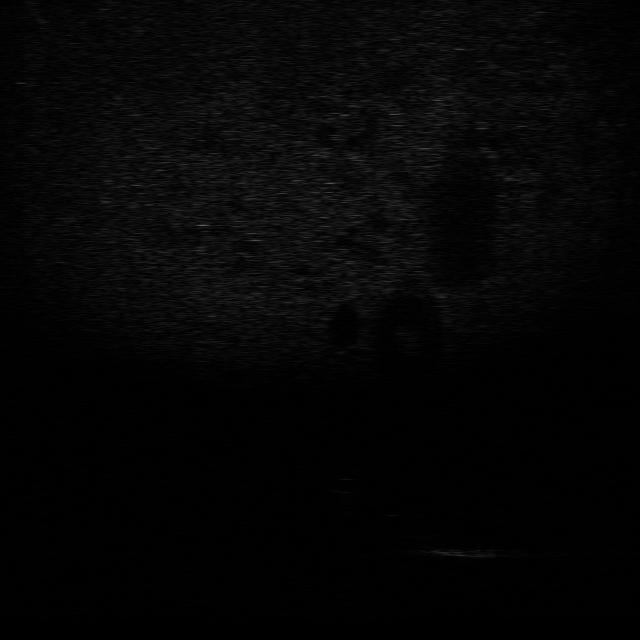ball: (322, 470, 367, 495)
metal bucket: (426, 542, 522, 562)
tyre: (379, 509, 445, 541)
